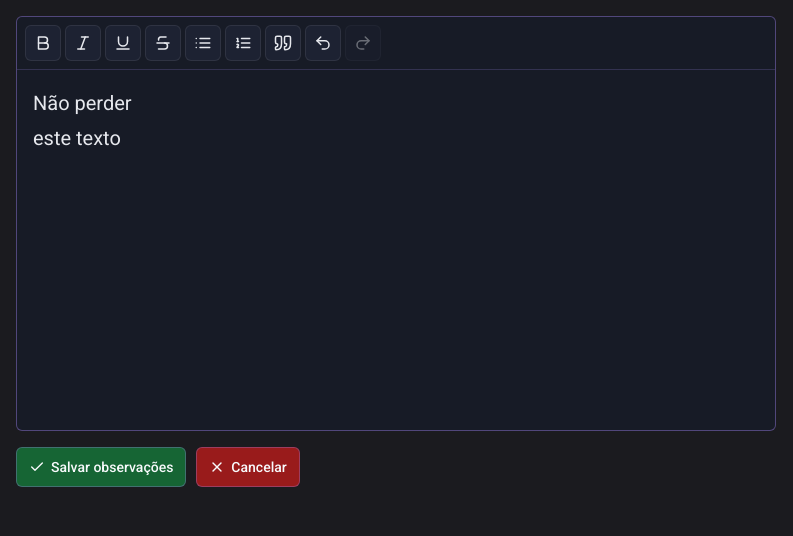
Test: preserves the draft when saving fails
This screenshot has width=793, height=536.
Click the button "Salvar observações": (101, 467) [16,447,186,487]
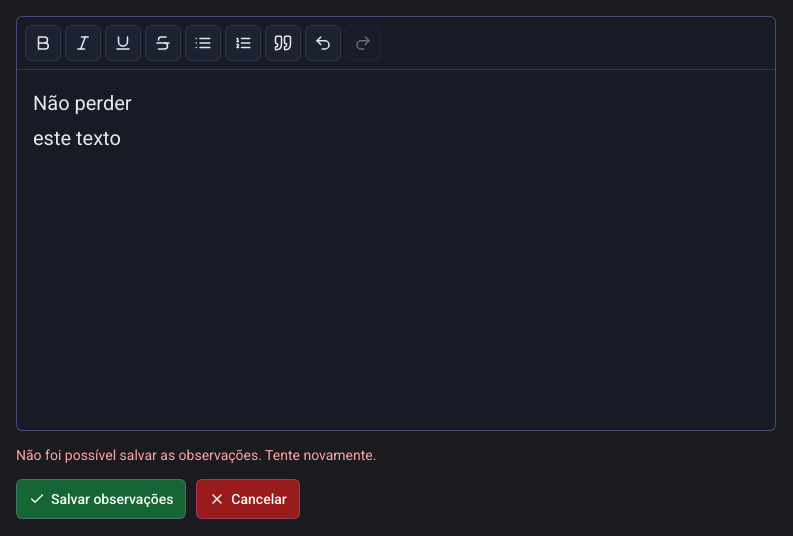
Expected: the message "Não foi possível salvar as observações. Tente novamente." is shown, [16,447,376,463]
